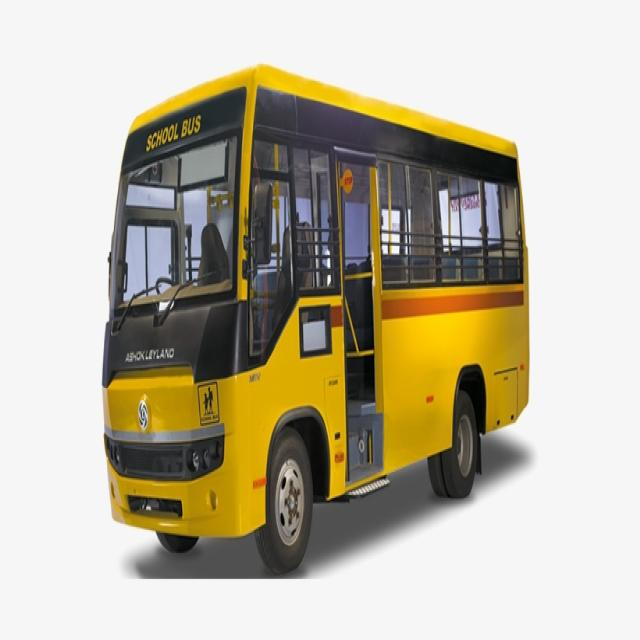bus: (102, 66, 529, 572)
